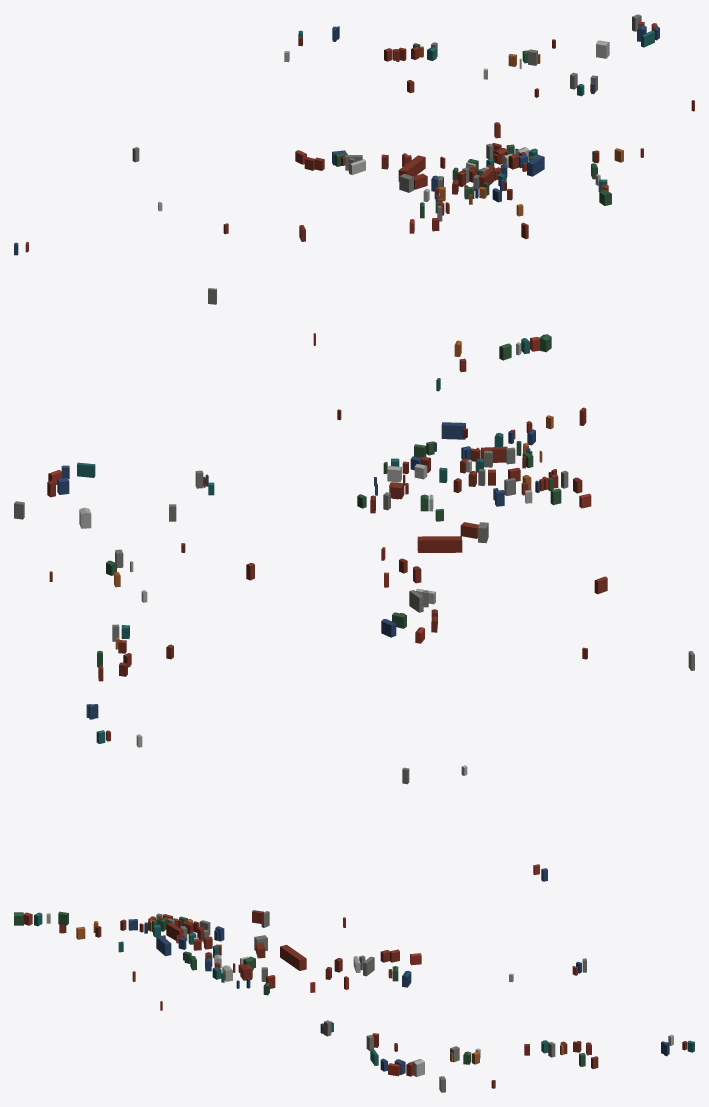
The model's file is near-15-27364-14859.b264aeb0.glb.
The picture shows the model from 3 angles, top to bottom: view 1: azimuth 30°, elevation 25°; view 2: azimuth 150°, elevation 25°; view 3: azimuth 270°, elevation 25°; orthographic projection. The views are drawn at different scales.
Bounding box in the file's own units: 1014 × 379 × 1134.
